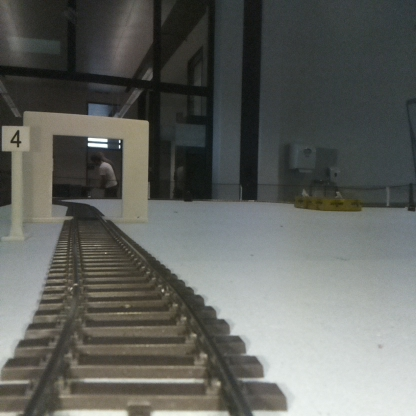white-info-4: (1, 126, 28, 240)
